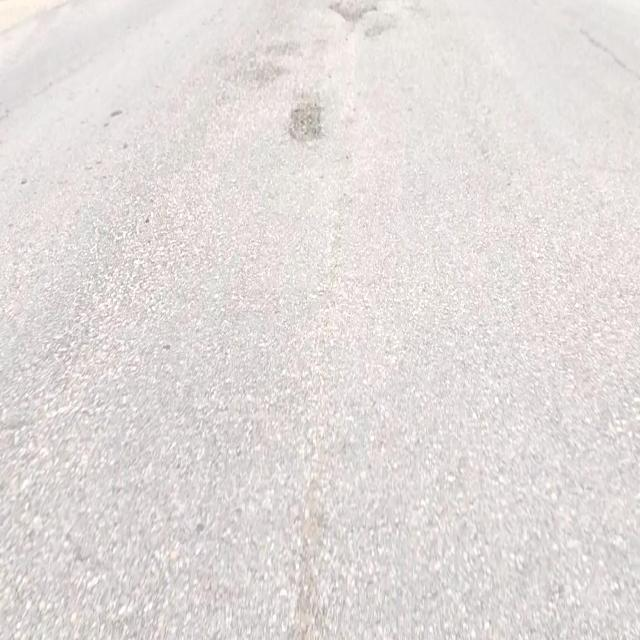Potholes: (289, 97, 324, 144), (327, 0, 372, 30)
